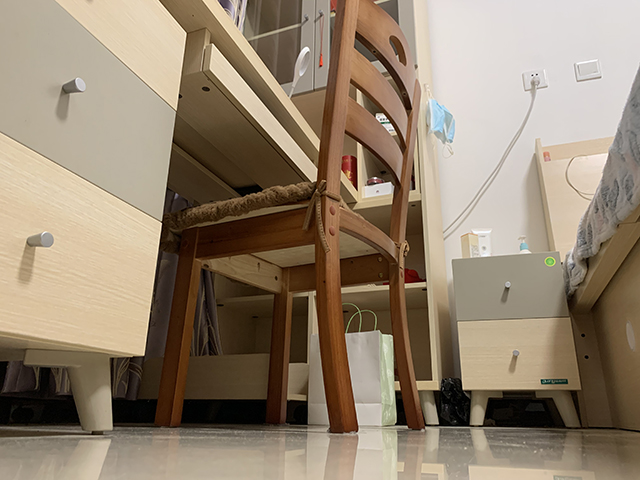cabinet: (451, 250, 584, 430)
stool: (153, 1, 428, 432)
table: (1, 1, 445, 425)
